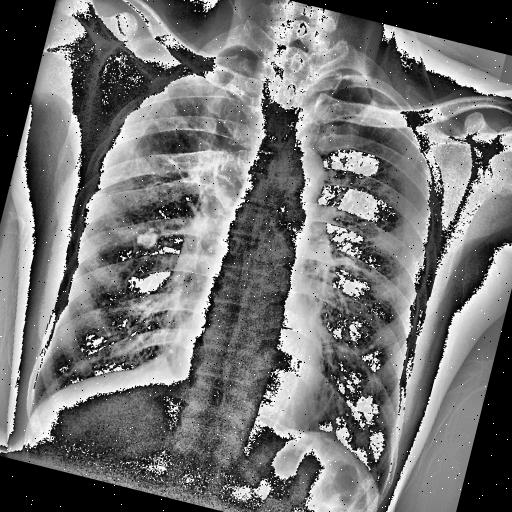0- Aortic enlargement: (264, 140, 332, 216)
11- Pleural thickening: (312, 61, 373, 93), (318, 410, 348, 448), (140, 348, 176, 378), (142, 348, 176, 379), (220, 40, 254, 64), (306, 415, 340, 438)
13- Pulmonary fibrosis: (141, 68, 239, 214), (92, 128, 234, 228), (302, 373, 352, 438), (160, 151, 220, 189)
2- Calcification: (136, 224, 159, 248)
8- Nodule-Mass: (134, 226, 162, 252), (134, 224, 158, 250)
9- Other lesion: (140, 348, 176, 378), (306, 415, 340, 438)
